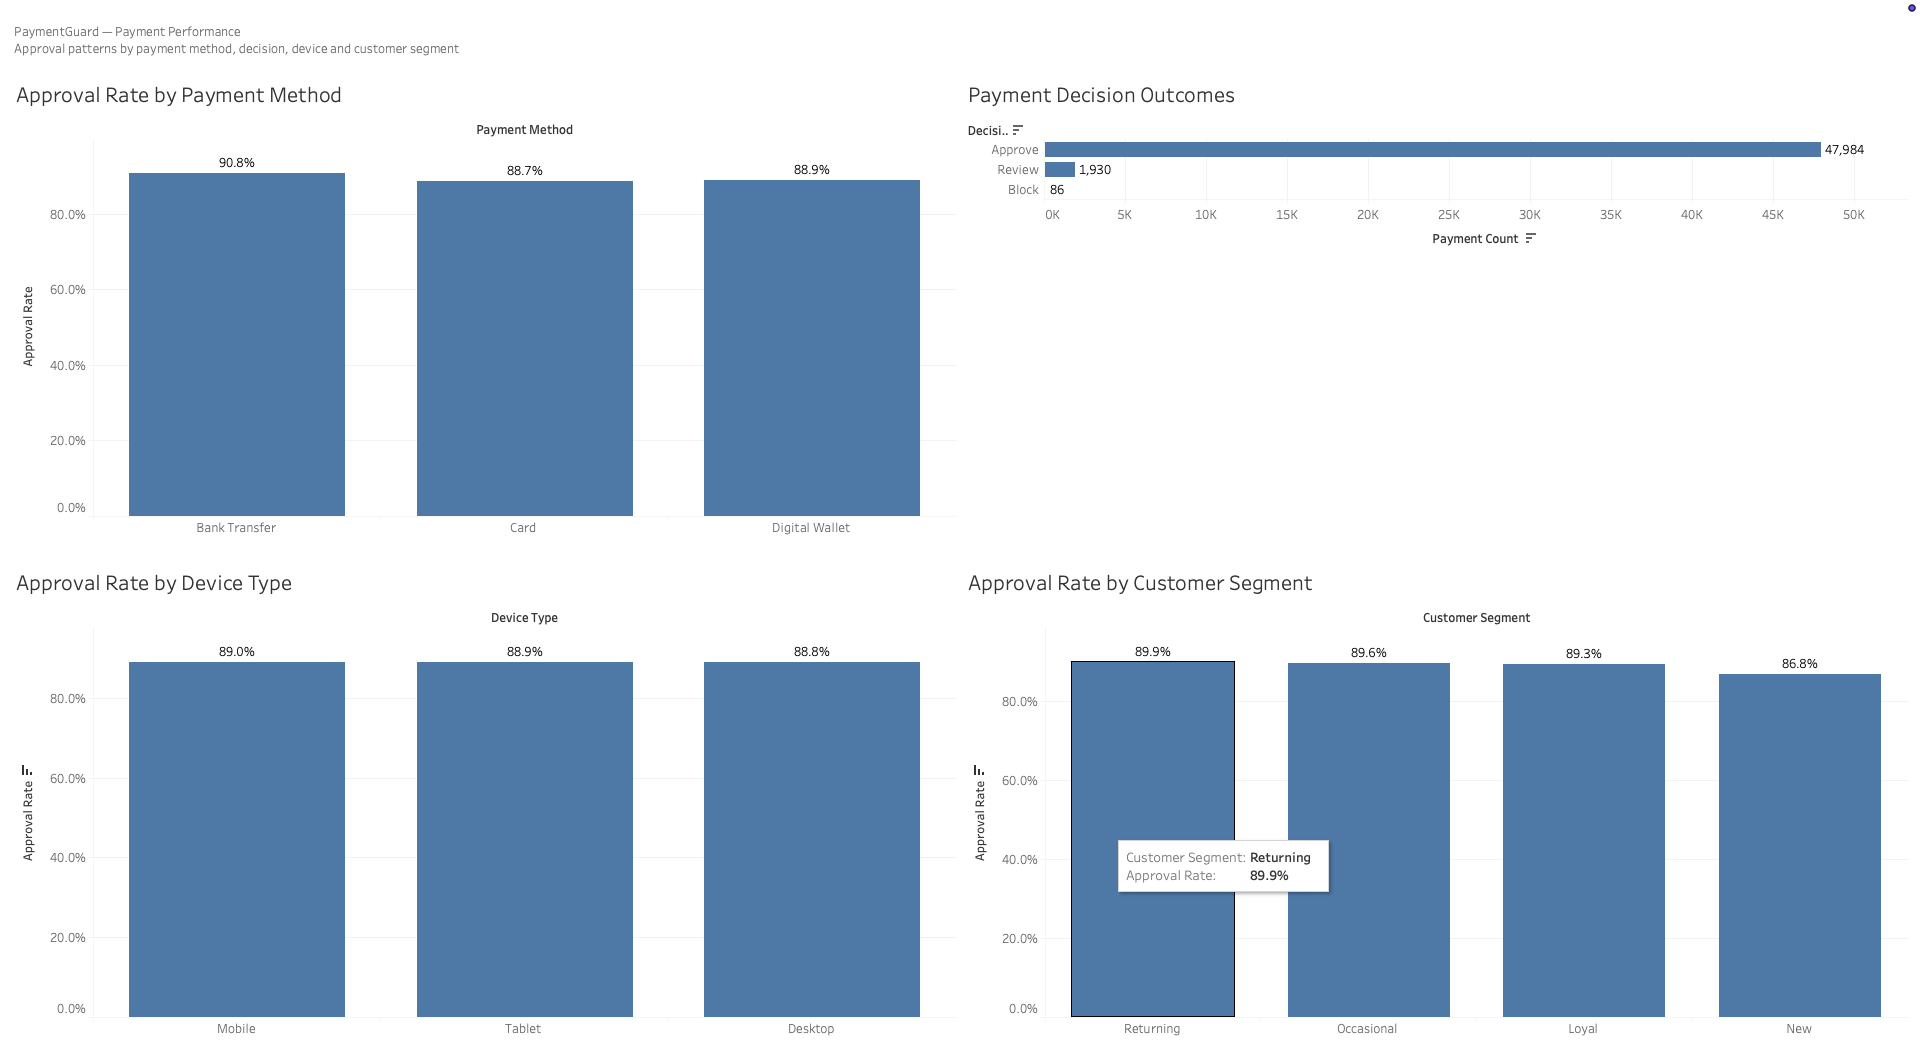

This screenshot's page, from the dashboard's own definition file:
{"tool":"tableau","page":{"name":"Payment Performance","canvas":[1000,1000],"units":"permille","ordinal":3},"visuals":[{"type":"text","box":[4.7,8.1,990.6,60.7]},{"type":"worksheet","title":"Approval Rate by Payment Method","mark":"Bar","rows":["Calculation_0124697243054080"],"cols":["payment_method"],"box":[4.7,68.8,495.3,464.1]},{"type":"worksheet","title":"Payment Decision Outcomes","mark":"Bar","rows":["decision"],"cols":["Calculation_0124697249144833"],"box":[500,68.8,495.3,464.6]},{"type":"worksheet","title":"Approval Rate by Device Type","mark":"Bar","rows":["Calculation_0124697243054080"],"cols":["device_type"],"box":[4.7,532.9,495.3,459]},{"type":"worksheet","title":"Approval Rate by Customer Segment","mark":"Bar","rows":["Calculation_0124697243054080"],"cols":["customer_segment"],"box":[500,533.4,495.3,458.5]}]}

Visuals, with their boxes on the dashboard's canvas, which has no fixed pixel size, in thousandths of its width and height (x1, y1, x2, y2). These are canvas units, not pixel positions in the 1920x1049 screenshot, which may show the page scaled, cropped or inside an application window:
text: [5, 8, 995, 69]
"Approval Rate by Payment Method" worksheet (Bar marks): [5, 69, 500, 533]
"Payment Decision Outcomes" worksheet (Bar marks): [500, 69, 995, 533]
"Approval Rate by Device Type" worksheet (Bar marks): [5, 533, 500, 992]
"Approval Rate by Customer Segment" worksheet (Bar marks): [500, 533, 995, 992]
